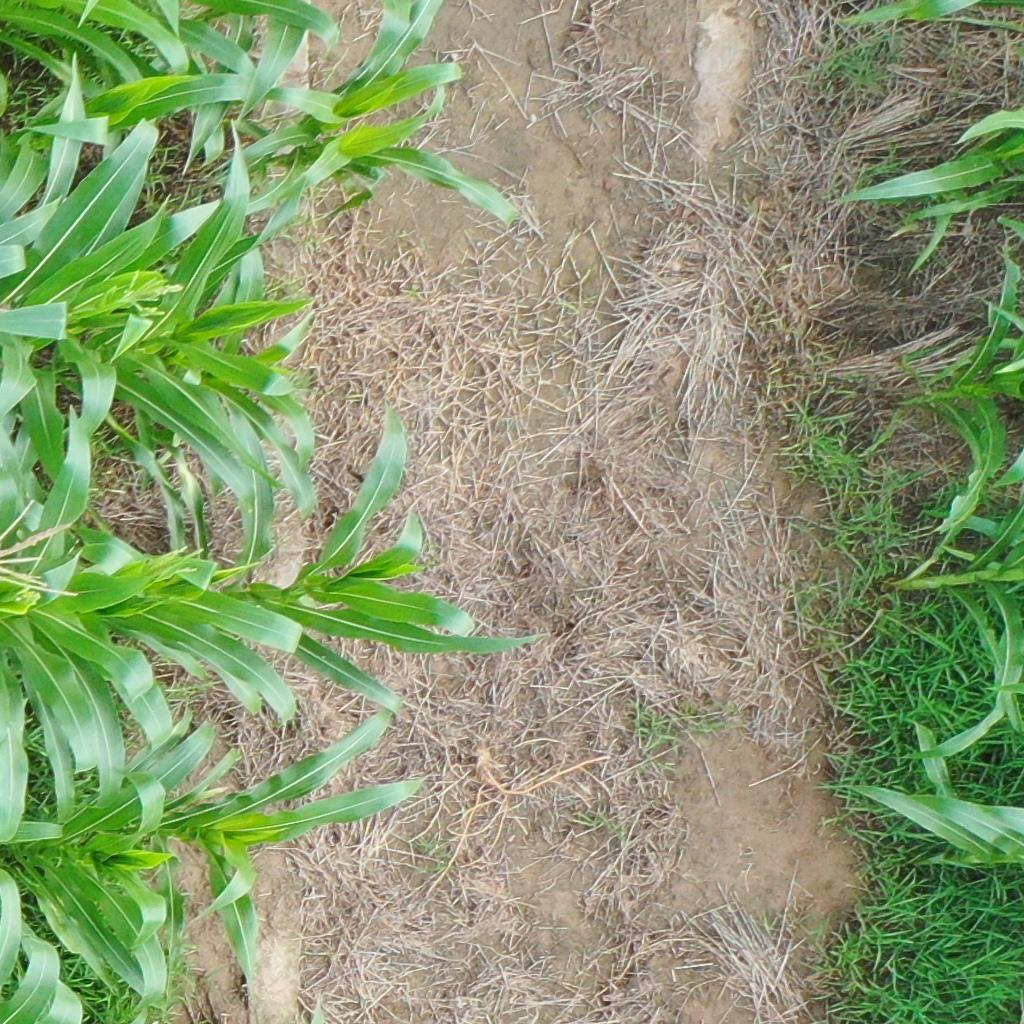Tassel: (1, 494, 77, 605), (107, 264, 179, 317), (138, 539, 205, 584)
